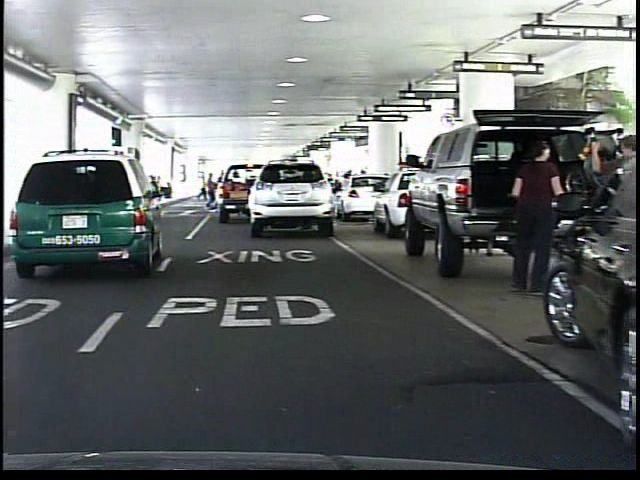person: (498, 131, 564, 293)
